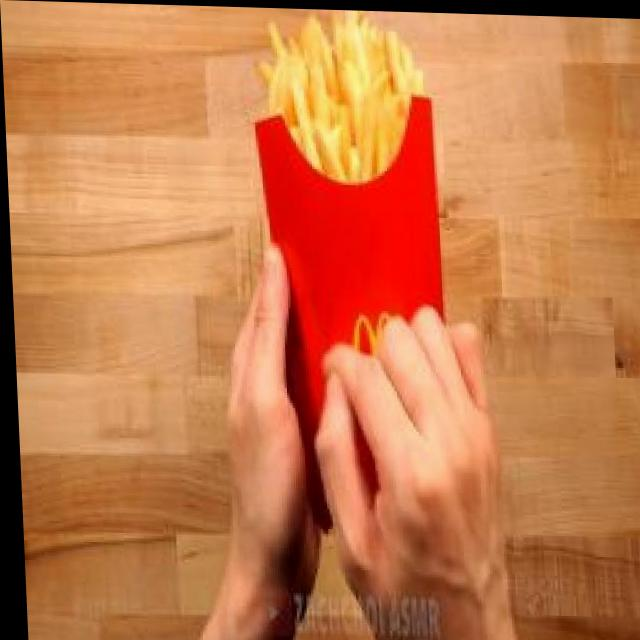french fries: (245, 6, 439, 212)
